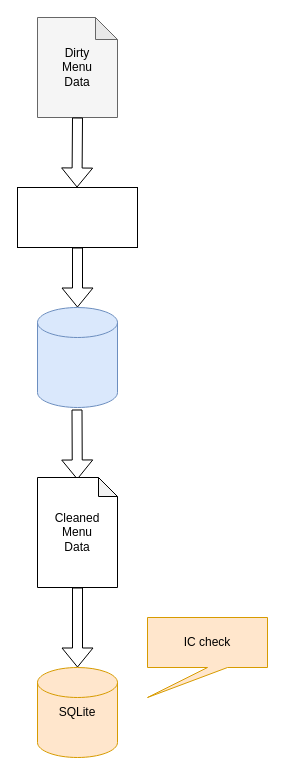
This 285x775 diagram has some shape labels left out. The shapes that lost their labels are listed below. From the top down, each one's centre as x and y in pixels, then its label:
At (77,217): "Data Investigation".
At (77,357): "OpenRefine".
